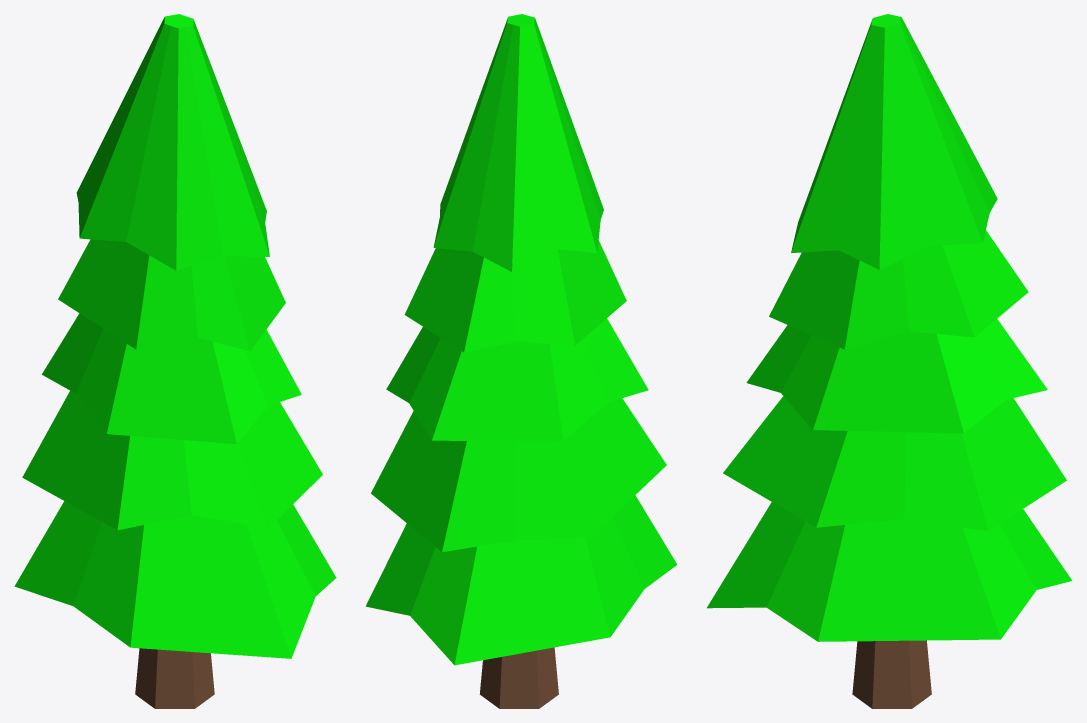
Rendered from pine_tree.fbx.
The picture shows the model from 3 angles, left to right: view 1: azimuth 30°, elevation 25°; view 2: azimuth 150°, elevation 25°; view 3: azimuth 270°, elevation 25°; orthographic projection.
Parts seen in each view (by area): view 1: tree; view 2: tree; view 3: tree.
Boxes of the visible parts, x1,y1,x2,y2 form: tree: [14, 14, 336, 708]; tree: [365, 14, 677, 708]; tree: [707, 14, 1072, 708].
Size of the model in its own units: 71.24 by 90.26 by 184.
